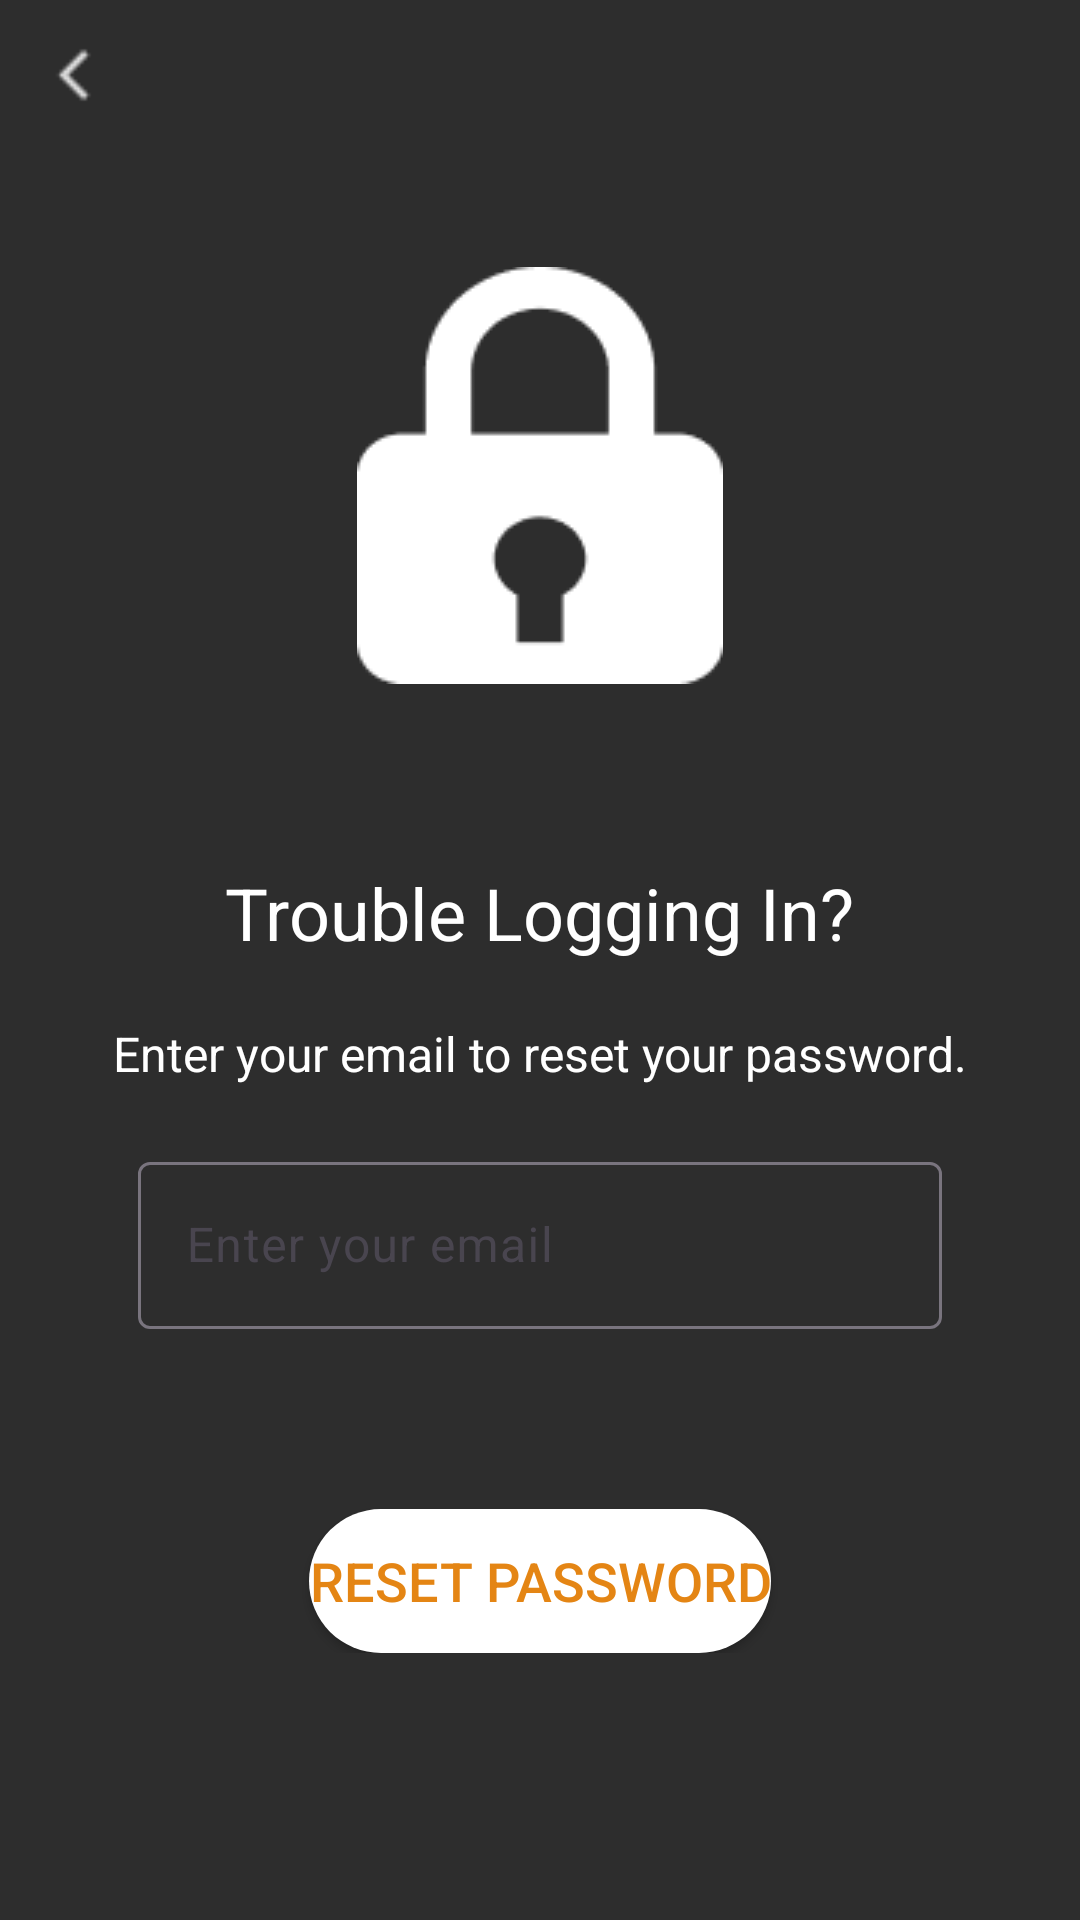

Named icons in this screenshot (1080*1920) and their bounding boxes, (x1, y1, x2, y2):
upload goback: (58, 49, 89, 101)
